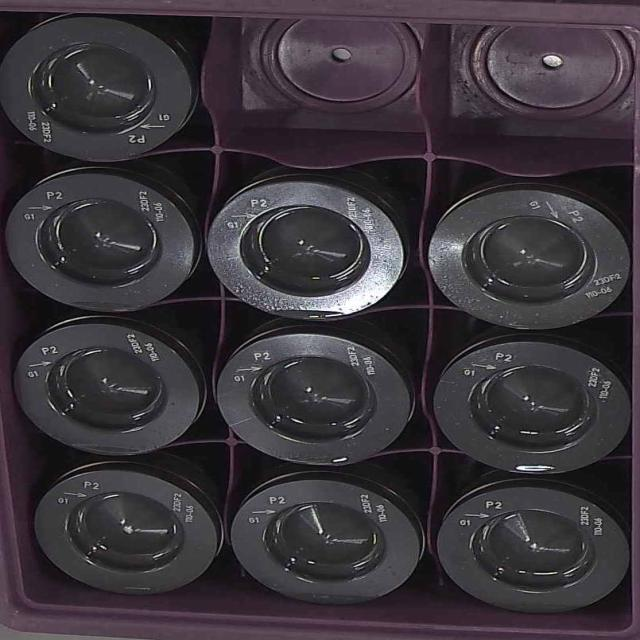P2: (428, 189, 633, 327), (217, 327, 412, 466), (208, 175, 399, 314), (437, 336, 628, 475), (231, 476, 427, 610), (10, 320, 203, 455), (440, 482, 632, 614), (34, 466, 228, 596), (8, 174, 194, 308), (7, 22, 183, 162)
